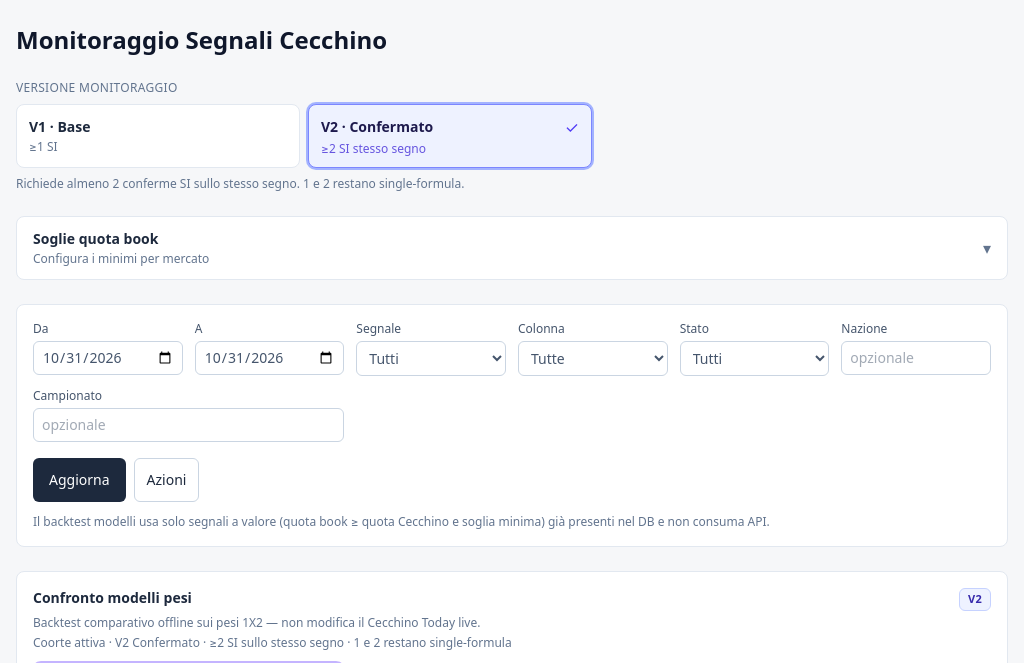
it: CecchinoSignalsMonitoringPage — V1/V2 › V1 label e microcopy corretti al cambio
This screenshot has width=1024, height=663.
What coordinates should you click on to do the following:
click the radio button with test id "monitoring-version-v1"
I would click on:
 (60, 126)
Its box is x1=16 y1=104 x2=300 y2=168.
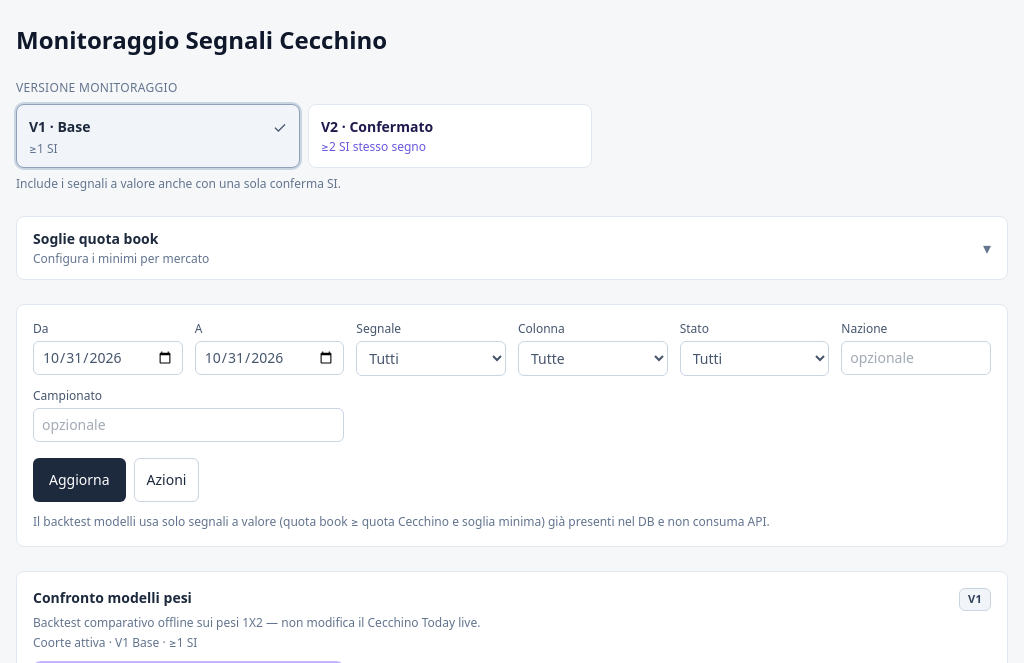
Now the text with test id "monitoring-version-microcopy" shows "una sola conferma SI", box x1=16 y1=175 x2=341 y2=192
